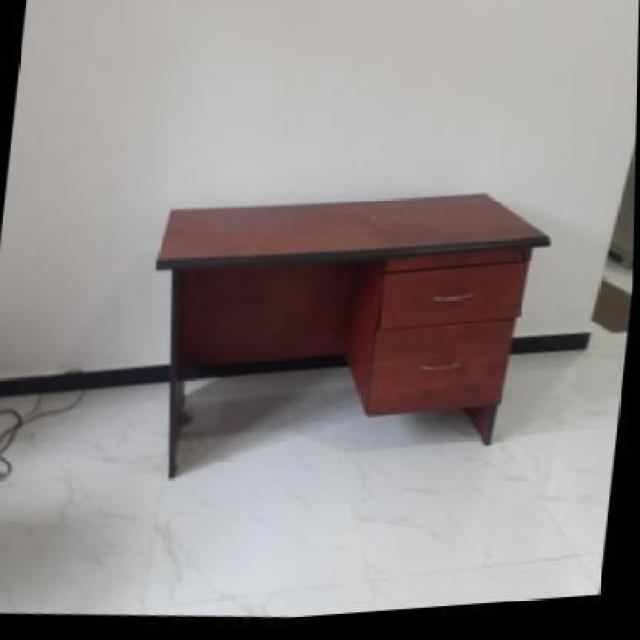tables: (154, 191, 551, 478)
